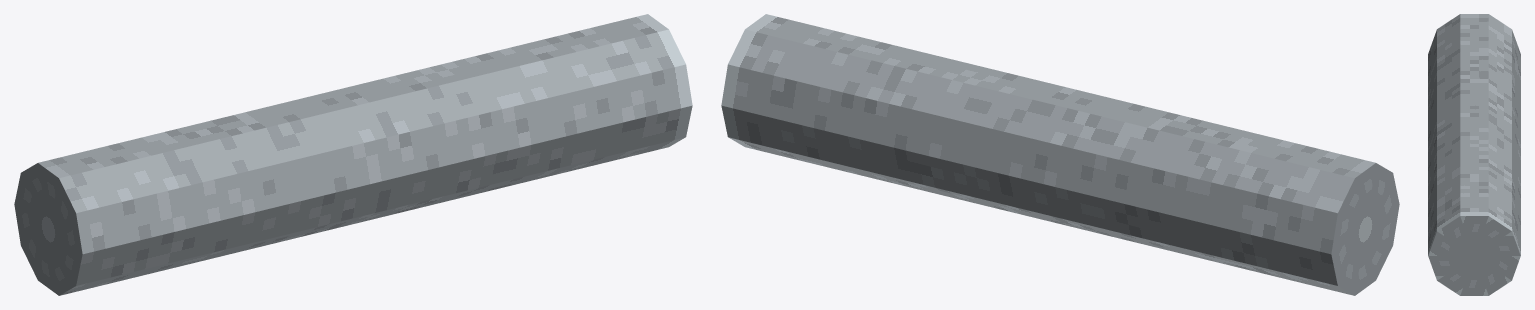
File: mc_steel_bar_round.glb
3 views of the same model, side by side, from view 1: azimuth 30°, elevation 25°; view 2: azimuth 150°, elevation 25°; view 3: azimuth 270°, elevation 25° (orthographic). The views are drawn at different scales.
Visible parts, largest first — view 1: block_round stock; view 2: block_round stock; view 3: block_round stock.
Boxes of the visible parts, bbox=[...] form: block_round stock: bbox=[14, 14, 692, 295]; block_round stock: bbox=[721, 14, 1399, 295]; block_round stock: bbox=[1428, 14, 1520, 295].
Size of the model in its own units: 0.3 by 0.0553 by 0.0582.
1 material, 1 textured.
